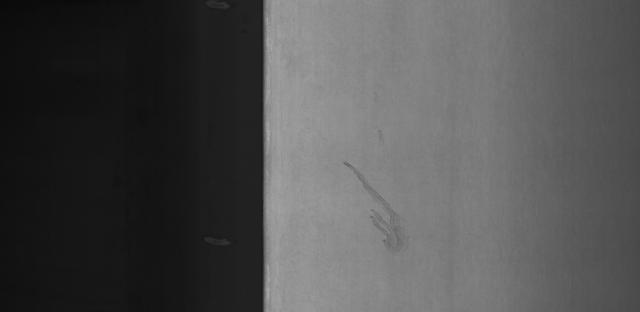water_spot: (335, 155, 426, 257)
